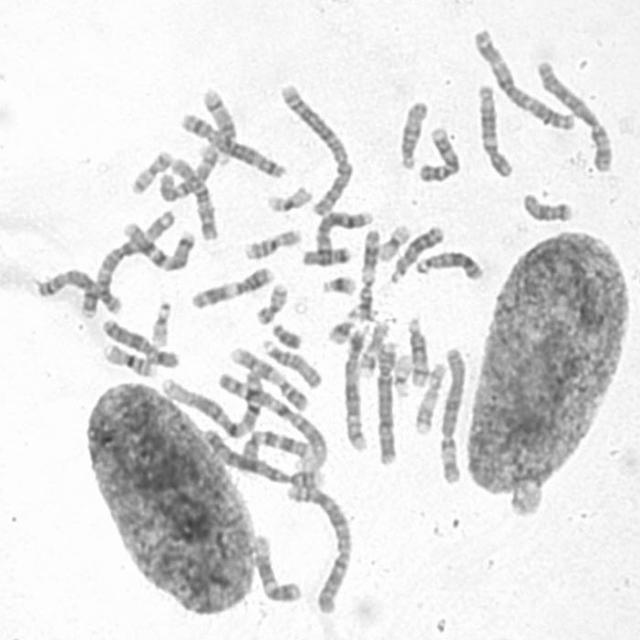A1: (218, 372, 327, 472), (158, 370, 264, 438)
A2: (282, 82, 354, 215), (284, 484, 354, 618)
A3: (474, 27, 578, 132), (97, 209, 176, 314)
B4: (203, 427, 321, 488), (374, 341, 398, 467)
B5: (181, 109, 287, 179), (342, 328, 366, 454)
C10: (170, 155, 220, 241), (157, 143, 217, 202)
C11: (190, 267, 275, 310), (356, 229, 380, 320)
C12: (252, 534, 304, 602), (477, 85, 512, 179)
C6: (536, 58, 614, 174), (440, 346, 468, 485)
C7: (125, 219, 195, 272), (235, 428, 315, 471)
C8: (315, 206, 375, 264), (39, 268, 100, 320)
C9: (231, 346, 311, 412), (418, 126, 462, 184)
D13: (387, 224, 445, 284), (415, 250, 484, 282)
D14: (202, 86, 237, 164), (406, 318, 429, 390)
D15: (260, 337, 322, 390), (396, 99, 428, 173)
E16: (103, 342, 155, 378), (242, 230, 302, 260)
E17: (415, 361, 448, 435), (359, 320, 388, 378)
E18: (519, 191, 576, 224), (301, 245, 352, 267)
F19: (264, 182, 314, 212), (375, 223, 411, 262)
F20: (130, 146, 175, 194), (253, 282, 290, 326)
G21: (326, 306, 359, 346), (321, 276, 357, 298)
G22: (390, 353, 416, 397), (152, 300, 172, 348)
X: (100, 319, 180, 370)
Y: (270, 323, 304, 348)
